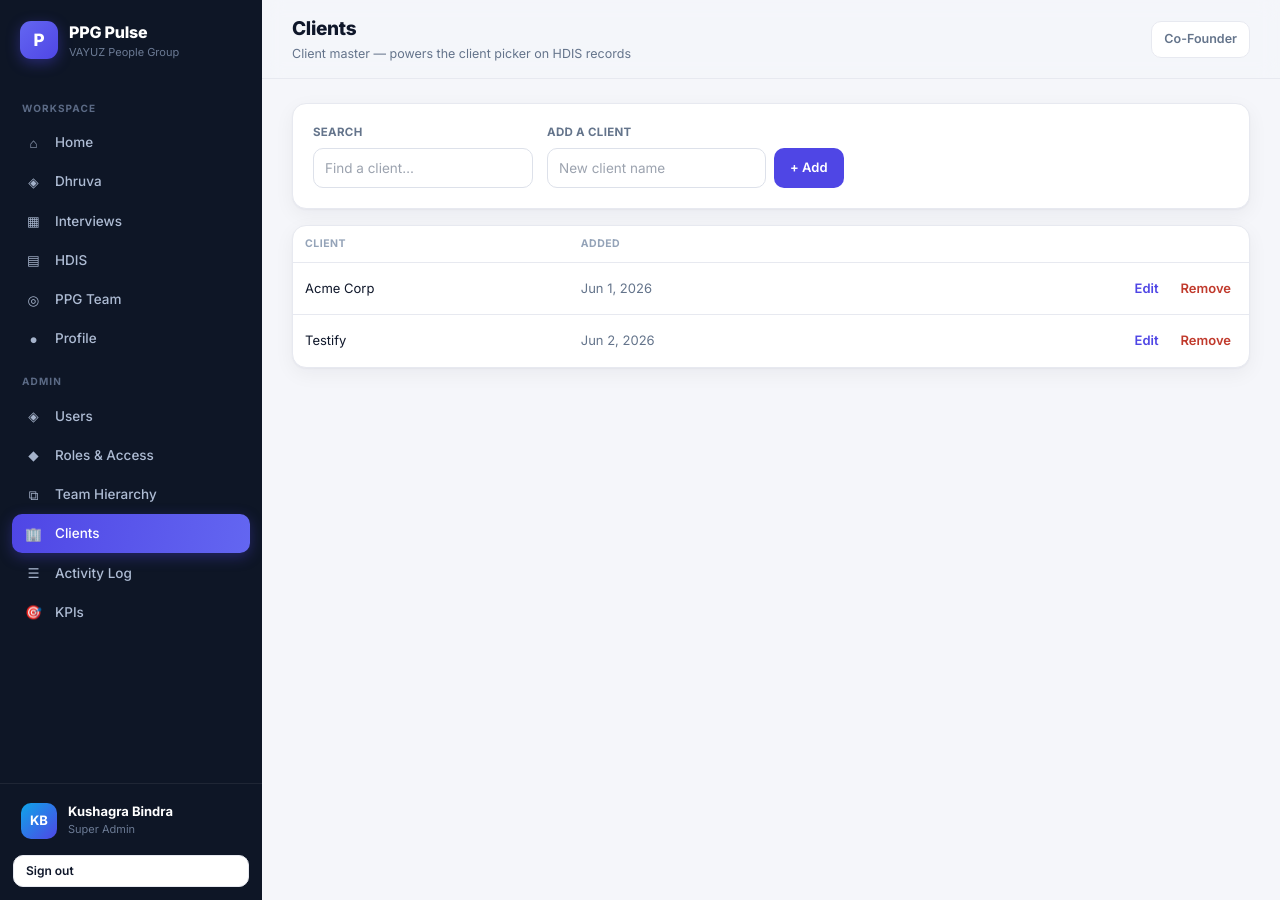
Test: Clients admin page › filters the list via search
This screenshot has width=1280, height=900.
Expected: the text "Acme Corp" is shown, [293,262,569,314]
Type "test" into the field labelled "Search".
click(423, 168); type("test")  # box [313,148,533,188]
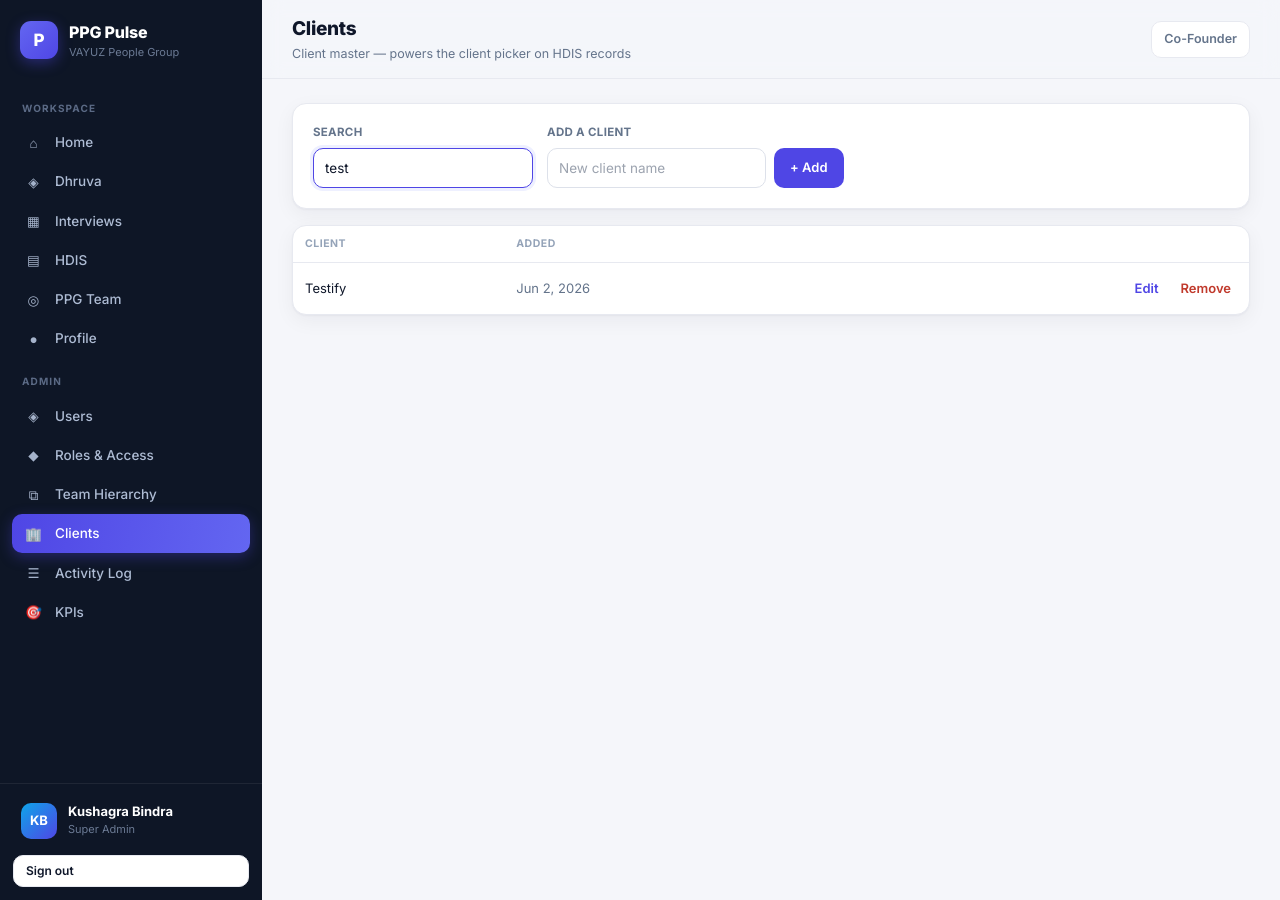
Expected: the text "Testify" is shown, [293,262,504,314]
Expected: the text "Acme Corp" is gone
